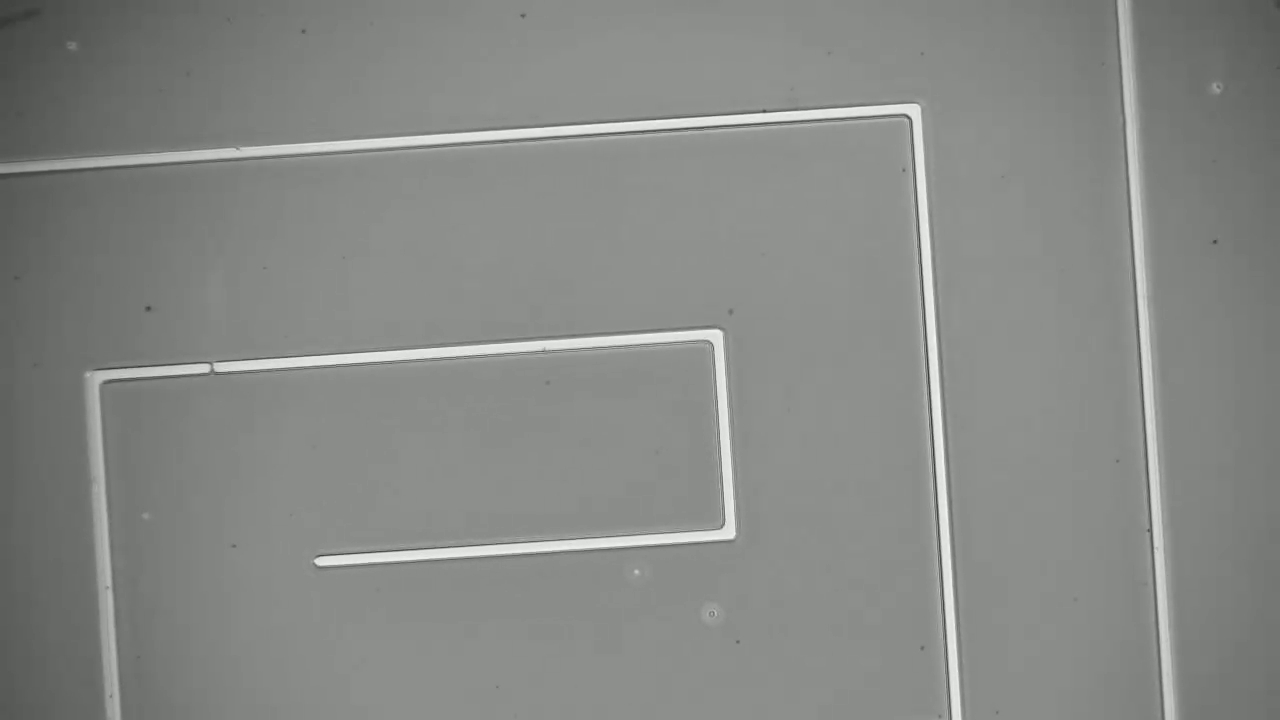stains_enbedded: (204, 357, 220, 379)
